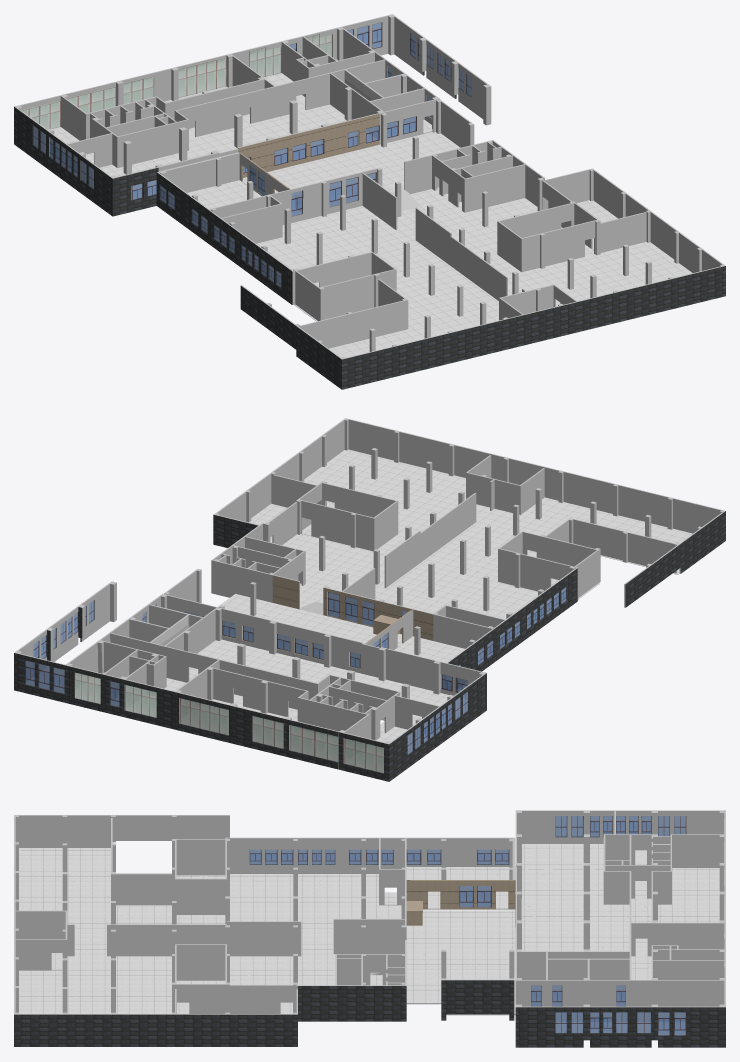
3 renders of one model, top to bottom at view 1: azimuth 30°, elevation 25°; view 2: azimuth 150°, elevation 25°; view 3: azimuth 270°, elevation 25°, orthographic. The views are drawn at different scales.
Parts seen in each view (by area): view 1: LC_1F_qiang, LC_1F_diban_wai, C_1F_chuang1, LC_1F_bolimen, C_1F_chuang3; view 2: LC_1F_qiang, LC_1F_diban_wai, LC_1F_bolimen, C_1F_chuang1, C_1F_chuang3; view 3: LC_1F_qiang, LC_1F_diban_wai, C_1F_chuang1, C_1F_chuang3.
Boxes of the visible parts, <box> form: LC_1F_qiang: <box>14,14,725,389</box>; LC_1F_diban_wai: <box>52,59,692,357</box>; C_1F_chuang1: <box>49,22,451,287</box>; LC_1F_bolimen: <box>22,34,332,129</box>; C_1F_chuang3: <box>33,45,471,189</box>; LC_1F_qiang: <box>14,418,725,781</box>; LC_1F_diban_wai: <box>103,449,692,765</box>; LC_1F_bolimen: <box>74,672,383,772</box>; C_1F_chuang1: <box>25,587,566,742</box>; C_1F_chuang3: <box>53,600,468,754</box>; LC_1F_qiang: <box>14,810,725,1047</box>; LC_1F_diban_wai: <box>19,844,719,1015</box>; C_1F_chuang1: <box>249,816,686,1035</box>; C_1F_chuang3: <box>555,816,686,1033</box>.
Bounding box in the file's own units: 58500 × 5644 × 87950.
8 materials, 7 textured.
